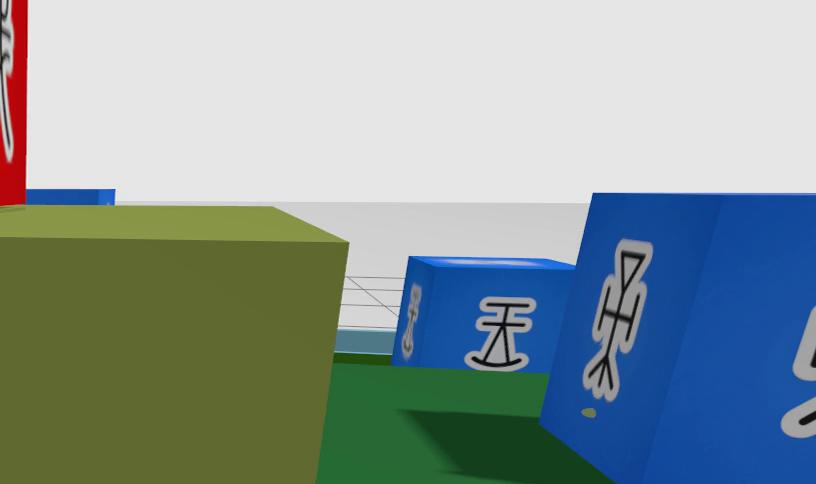KFS_FAKE: (0, 0, 28, 205), (0, 0, 15, 161)
KFS_REAL: (539, 194, 815, 484), (392, 256, 574, 372), (391, 256, 574, 371), (582, 239, 652, 401)
